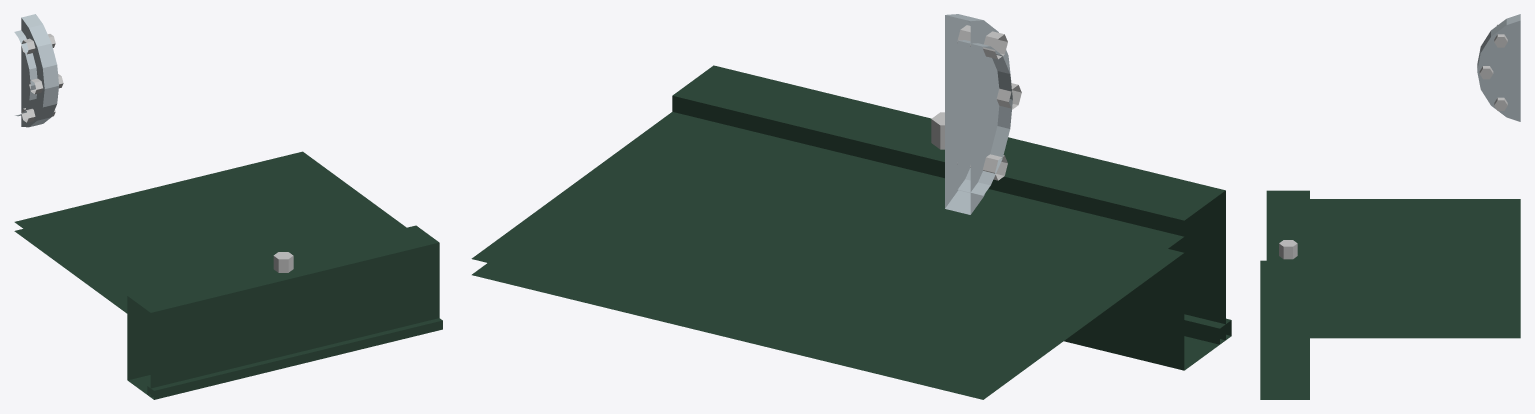
The model's file is cell_22.obj.
3 renders of one model, left to right at view 1: azimuth 30°, elevation 25°; view 2: azimuth 150°, elevation 25°; view 3: azimuth 270°, elevation 25°, orthographic. The views are drawn at different scales.
Size of the model in its own units: 1 by 0.9209 by 0.84.
